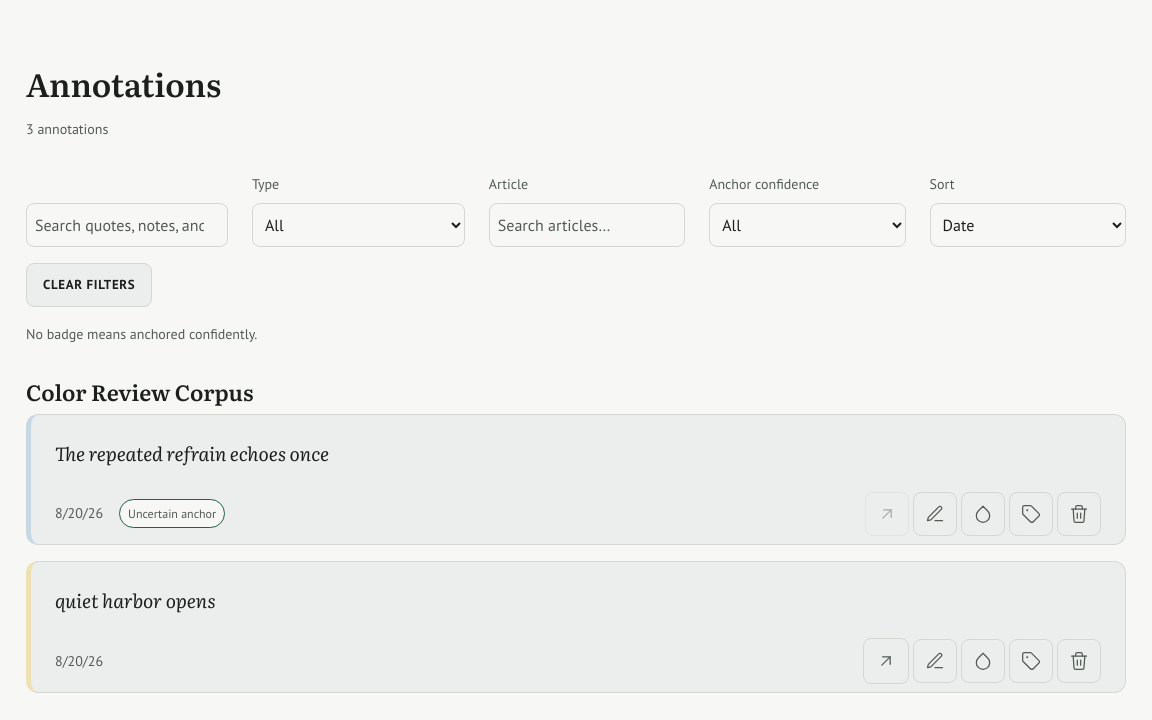
Test case: ReviewView highlight colors (issue #119) › Change color opens the SAME slot-pills row: five action buttons, no radios, no current state
Click the button named "Change color, currently Blue: The repeated refrain echoes on" at (983, 514), box [961,492,1005,536]
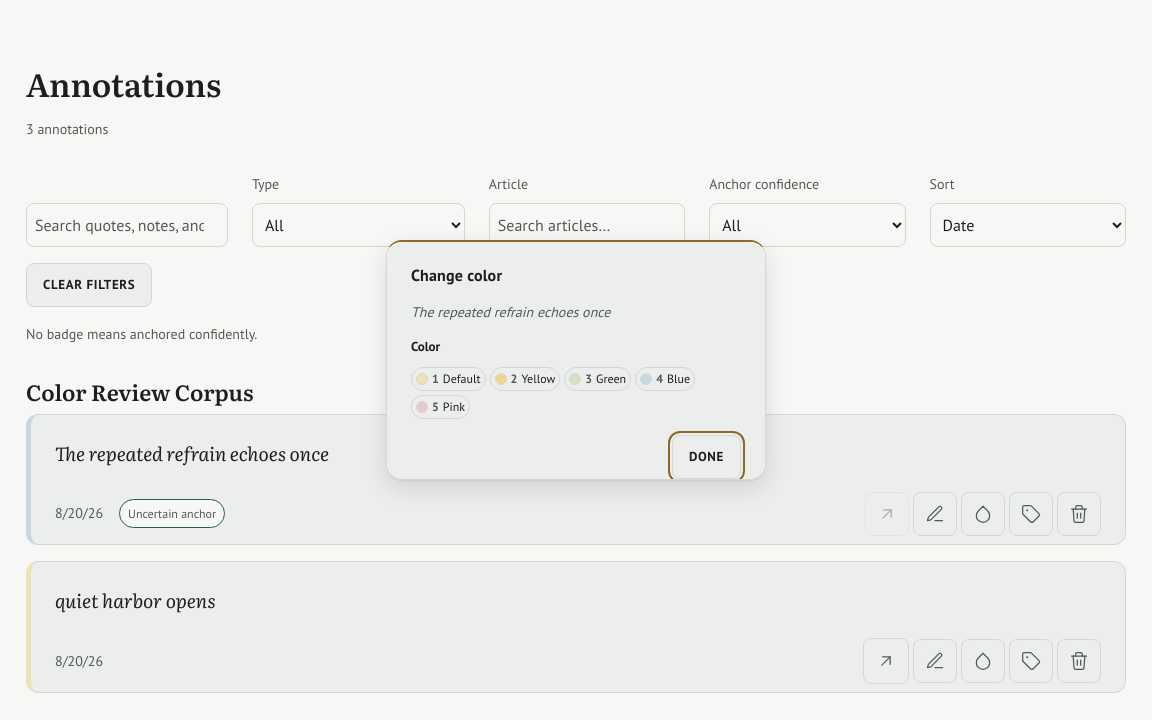
Result: the text "Color" is shown at [411,338,440,357]
